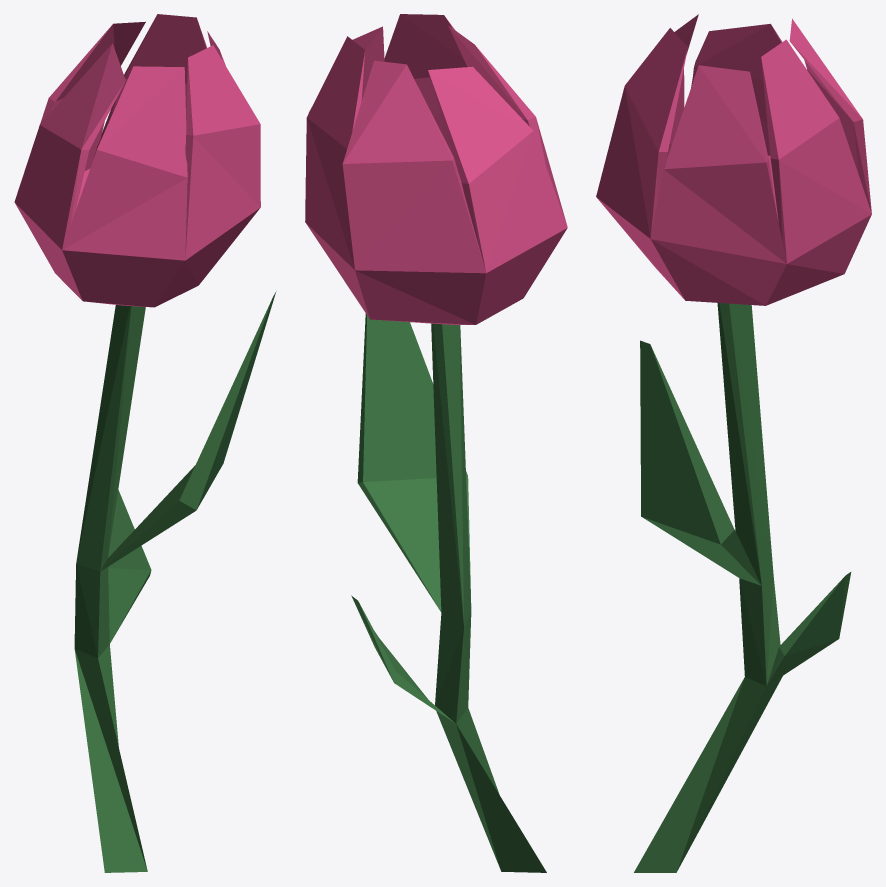
File: Tulip_1_Pink Asia.fbx
3 renders of one model, left to right at view 1: azimuth 30°, elevation 25°; view 2: azimuth 150°, elevation 25°; view 3: azimuth 270°, elevation 25°, orthographic. The views are drawn at different scales.
Parts seen in each view (by area): view 1: Tulip_1_Pink; view 2: Tulip_1_Pink; view 3: Tulip_1_Pink.
Boxes of the visible parts, x1,y1,x2,y2 form: Tulip_1_Pink: (14,14,276,872); Tulip_1_Pink: (305,14,567,872); Tulip_1_Pink: (596,14,871,872).
Bounding box in the file's own units: 0.0926 × 0.3407 × 0.0972.
